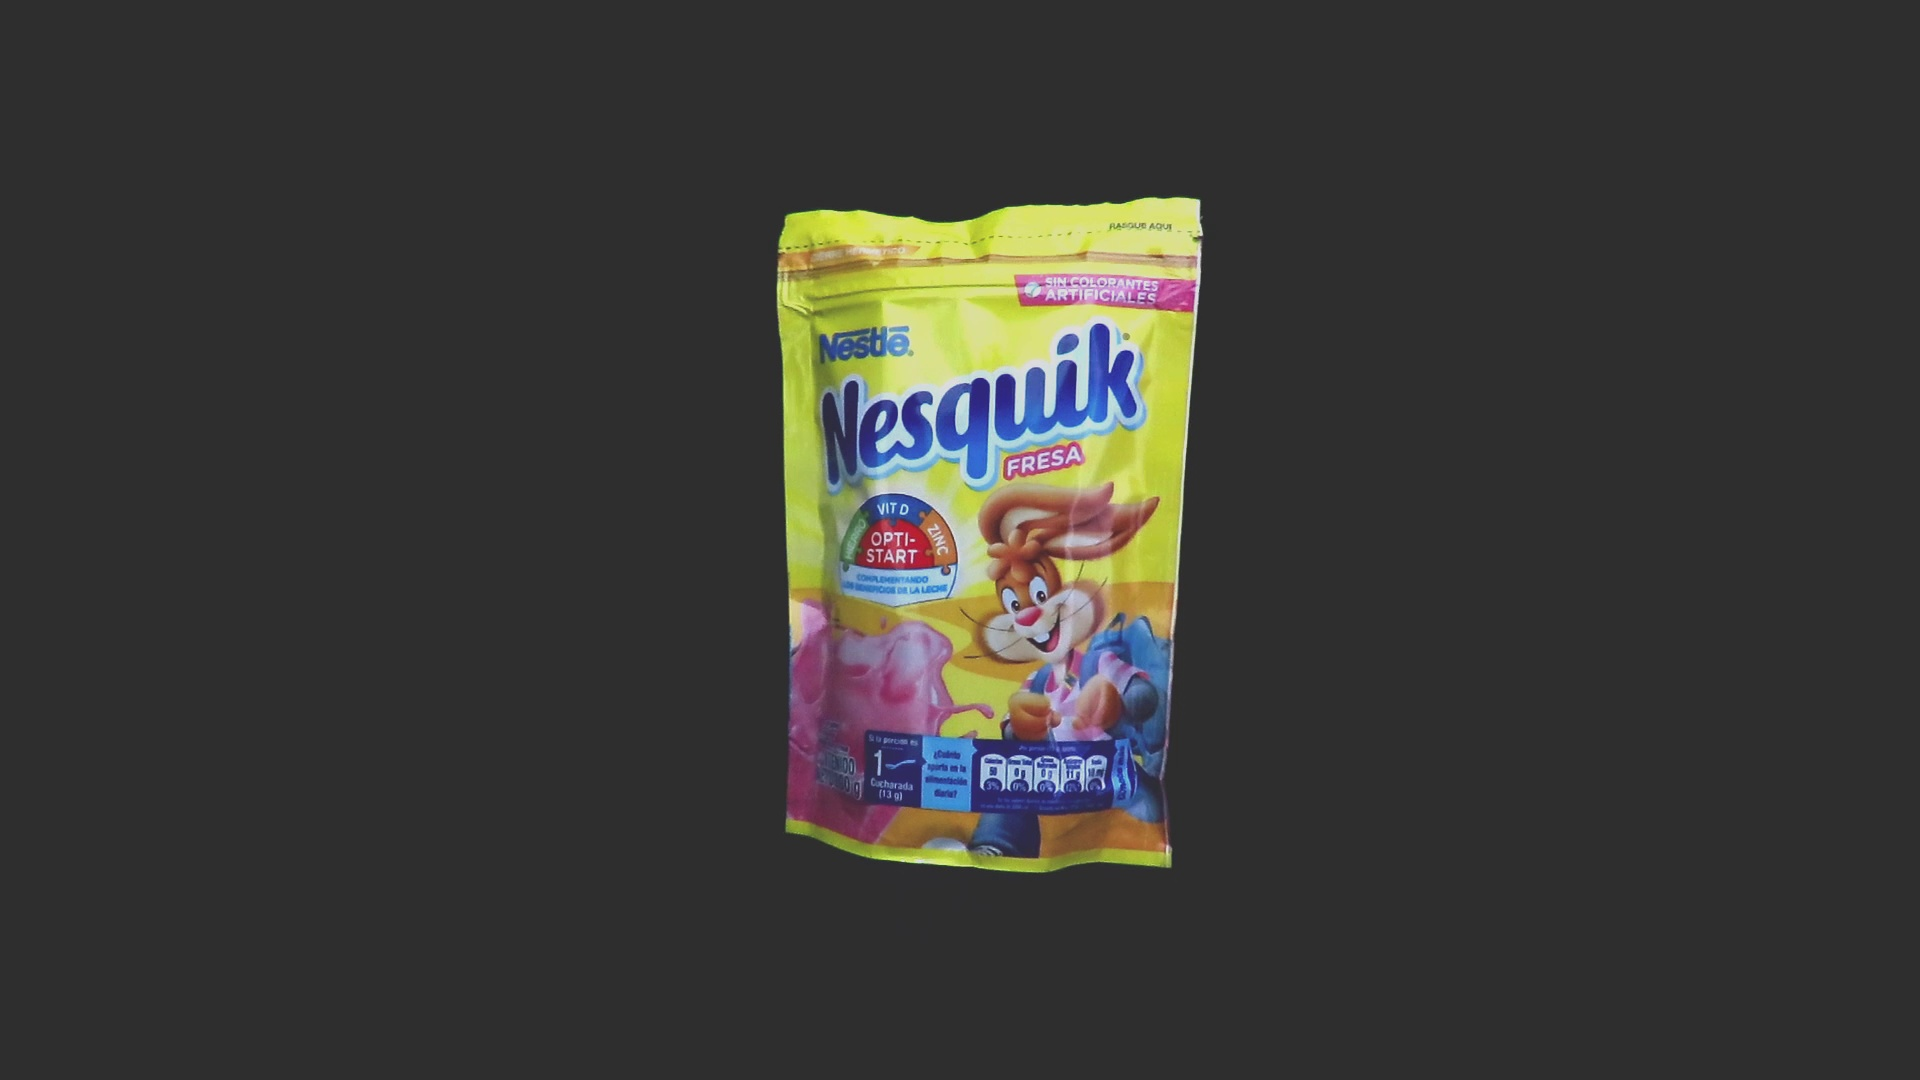COL0170305DYP20000: (771, 193, 1209, 880)
